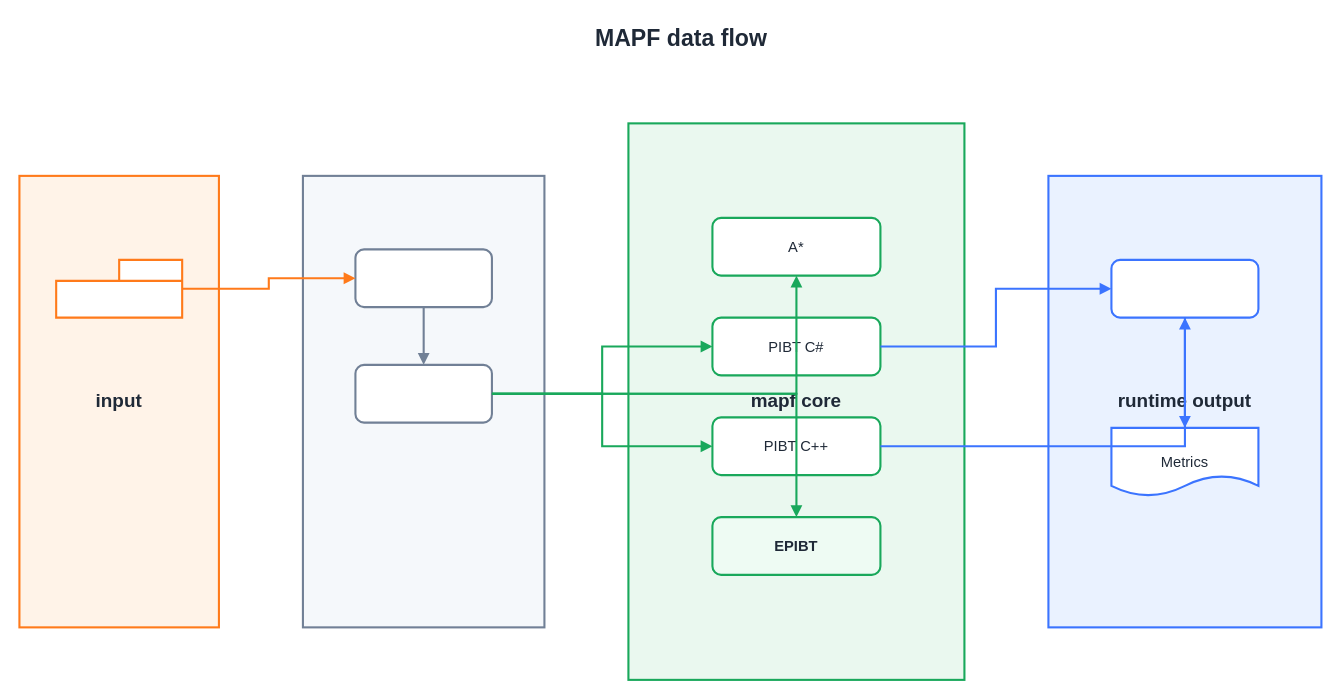
Some shapes in this 1340 by 698 pixel diagram are drawn without their labels. Each missing label, with the centre of its shape:
".map file" belongs at pixel 119 288.
"Enemy agent" belongs at pixel 1184 288.
"MapLoader" belongs at pixel 423 278.
"Scenario" belongs at pixel 423 393.
